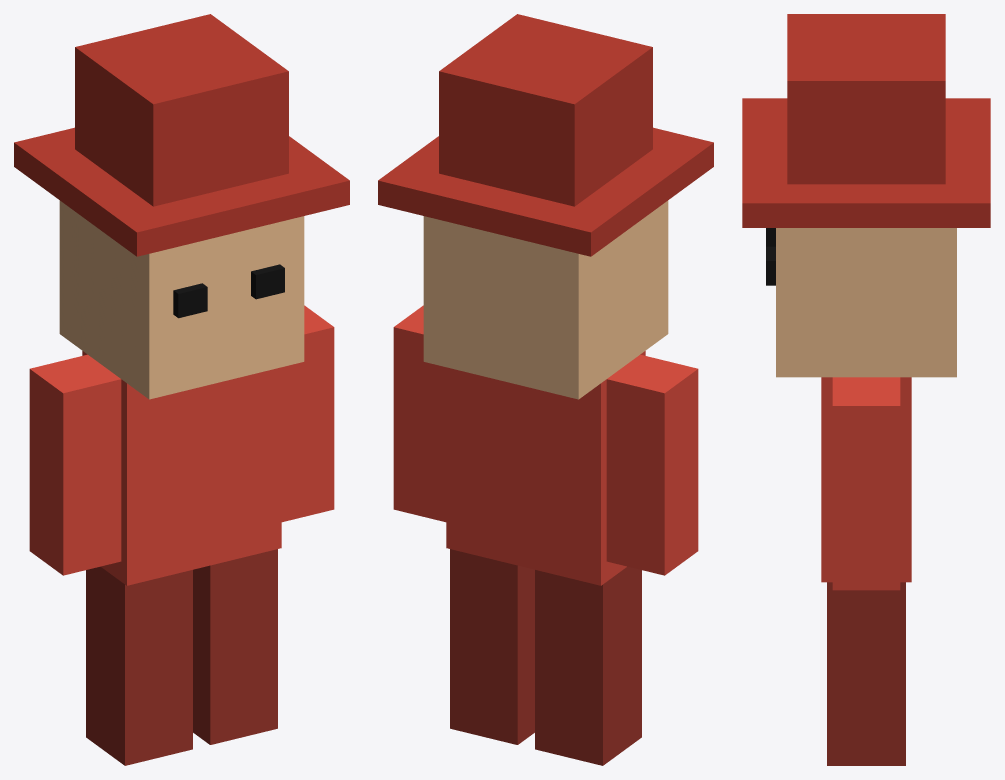
Rendered from npc_variable.obj.
3 renders of one model, left to right at view 1: azimuth 30°, elevation 25°; view 2: azimuth 150°, elevation 25°; view 3: azimuth 270°, elevation 25°, orthographic.
Size of the model in its own units: 1.4 by 3.32 by 1.1.
